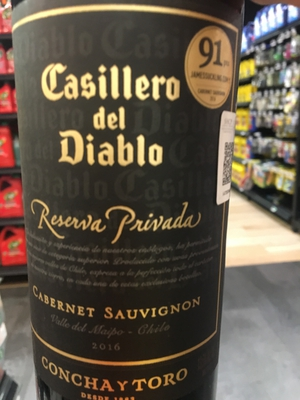casillero del diablo reserva privada cabernet sauvignon: (9, 1, 243, 381)
